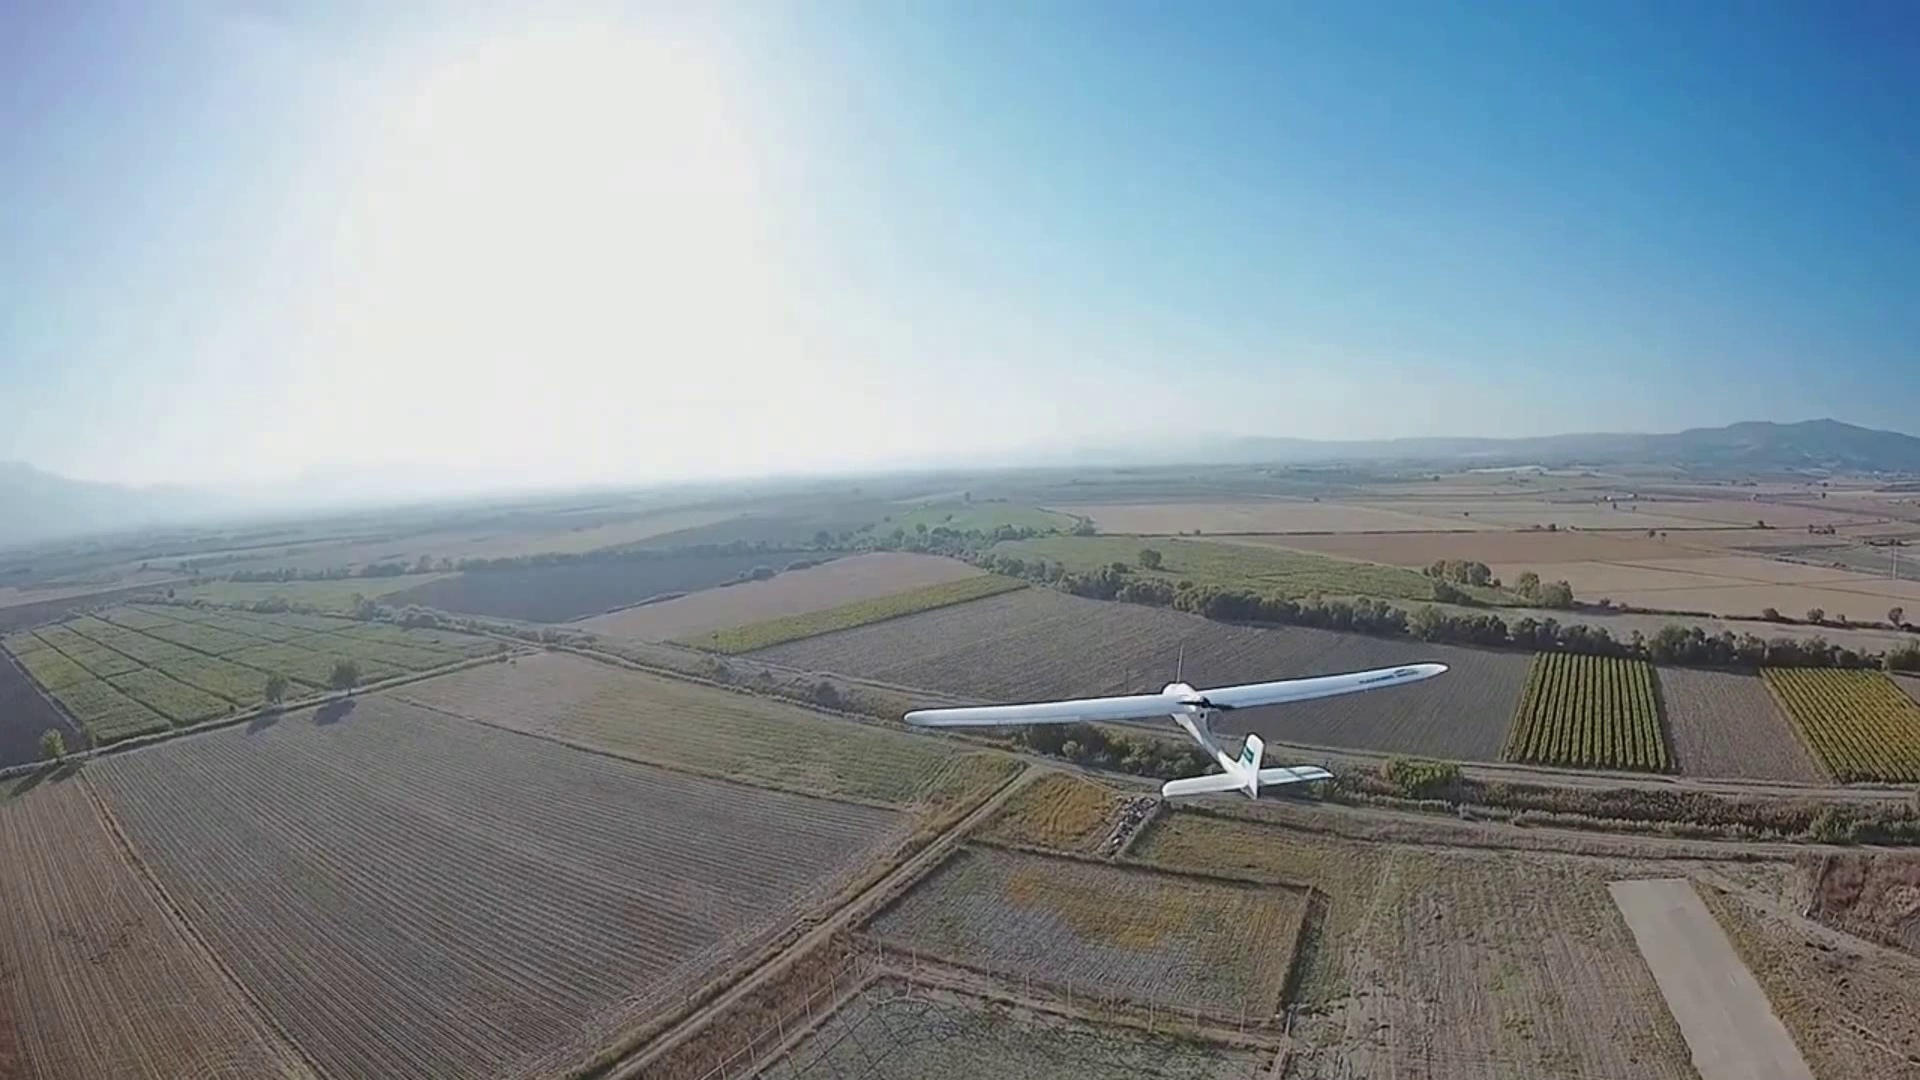airplane: (897, 660, 1451, 803)
